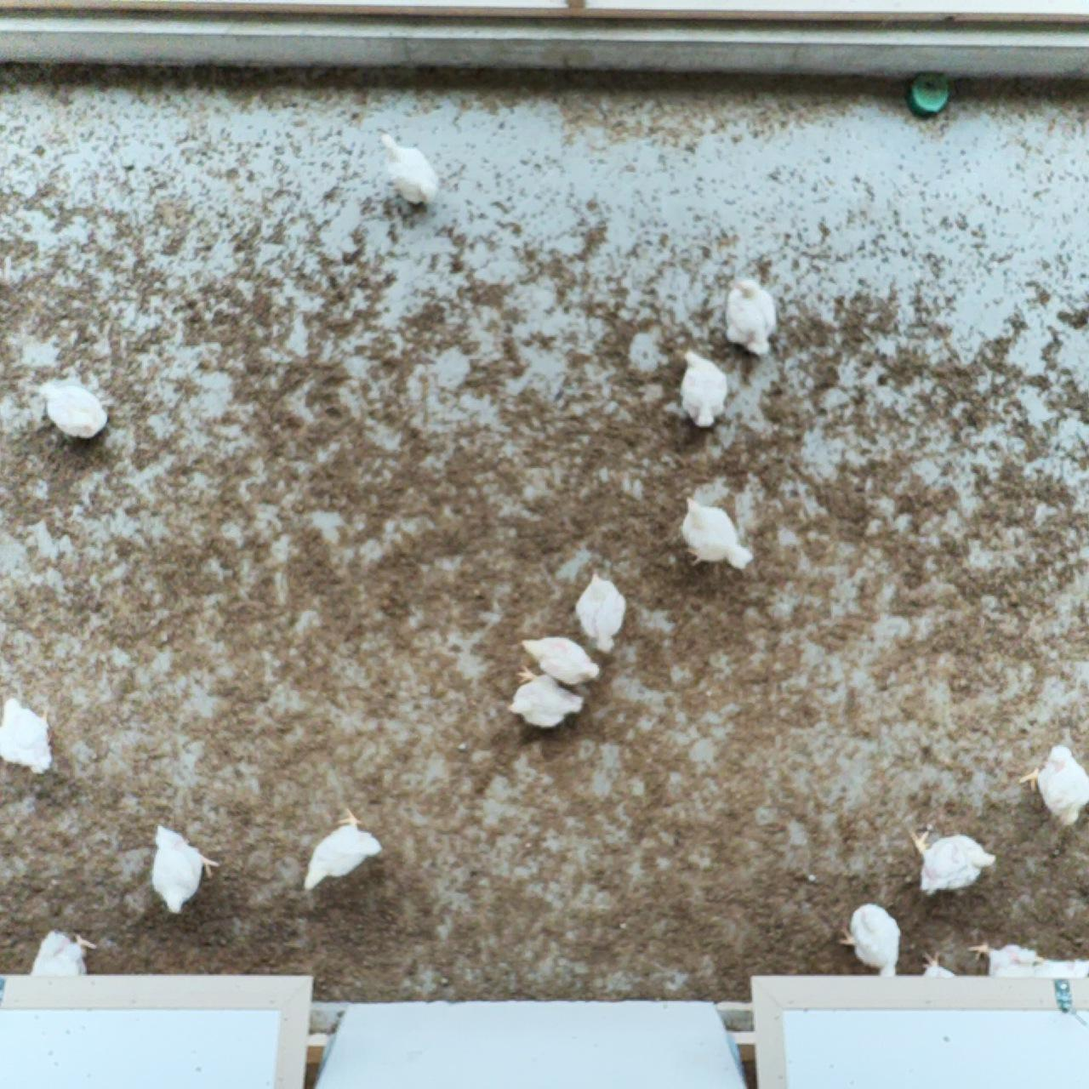chicken: (300, 804, 385, 897), (902, 822, 1002, 898), (672, 489, 756, 574), (150, 819, 222, 915), (1016, 740, 1089, 830), (835, 899, 909, 980), (963, 934, 1088, 980), (504, 662, 586, 732), (723, 274, 785, 362), (376, 128, 442, 208), (573, 566, 631, 656), (0, 691, 60, 777), (675, 347, 732, 433), (37, 378, 110, 445), (515, 632, 602, 687), (29, 925, 95, 979)
